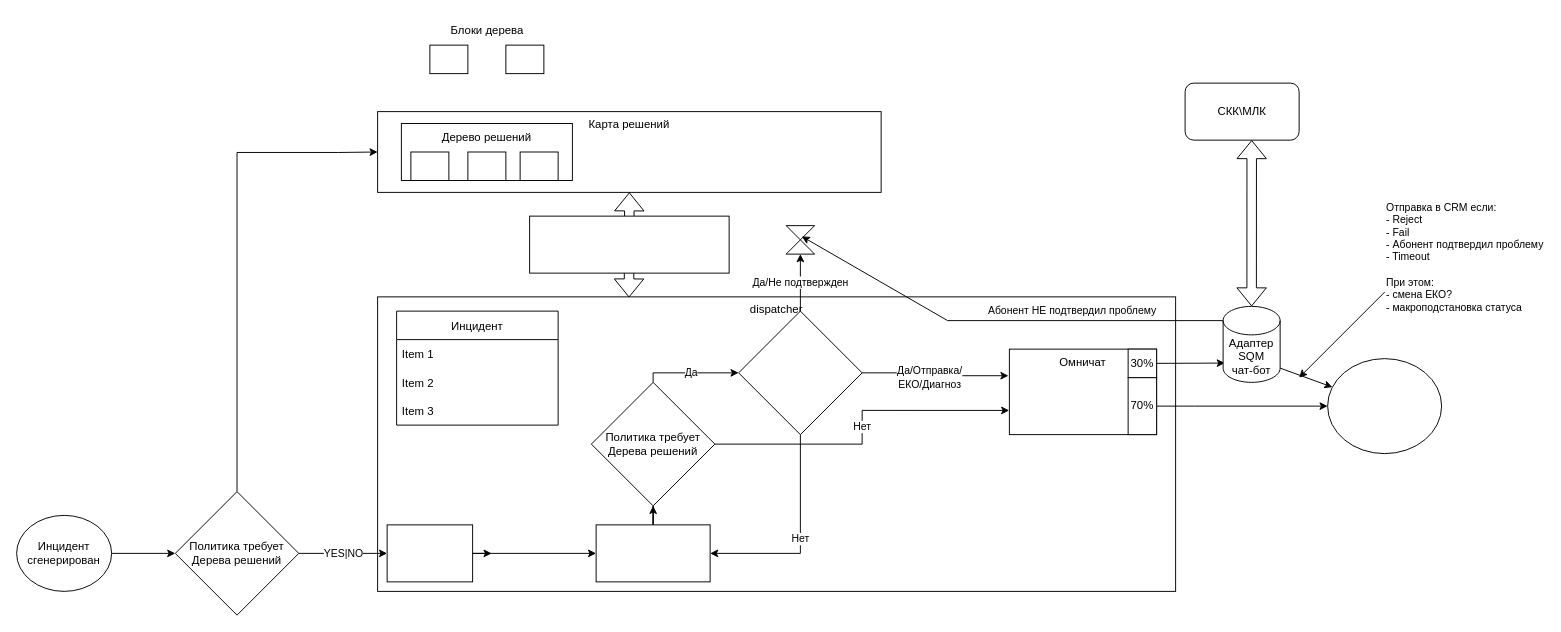
The diagram is 1561 pixels wide and 632 high, and some of its shapes have lost their labels. Each missing label, with the centre of its shape:
CRM: [1384,406]
Диагностика завершена: [800,372]
Корзина: [800,239]
Очередь: [652,553]
Фильтрация (глобальные и по политике): [429,553]
Шина обмена информации о ходе диагностики: [629,244]
